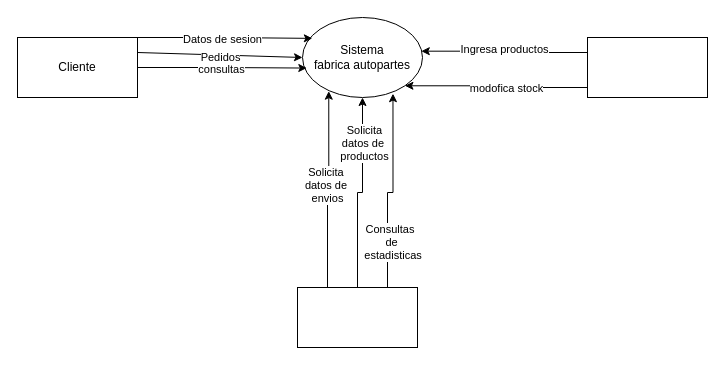
The diagram is 725 pixels wide and 365 high, and some of its shapes have lost their labels. The shapes that lost their labels are listed below. From the top down, each one's centre as x and y in pixels, then its label:
the point at 647,67: Empleado
the point at 357,317: Administrador
